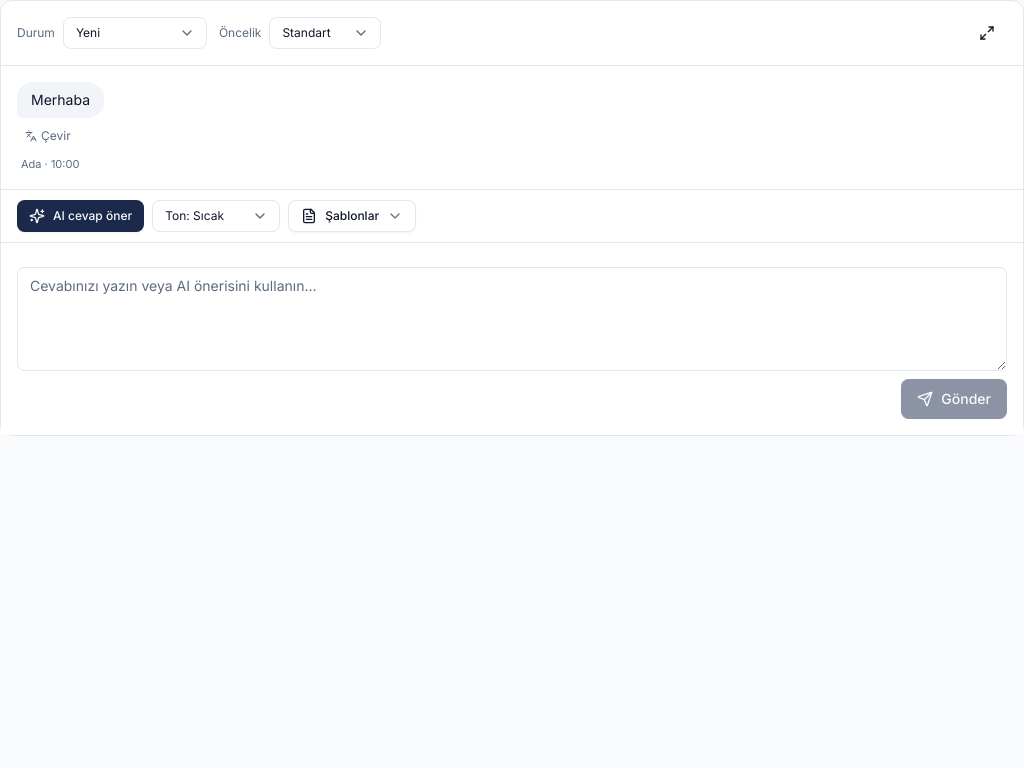
şablon seçici — sayfalı liste + seçilince tam metin › 🚨 arama SUNUCUYA gider (ilk sayfada olmayan şablon bulunur); sonuç yoksa yalnız 'Şablon bulunamadı.'
Click the button "Şablonlar" at [352, 216], box [288, 200, 416, 232]
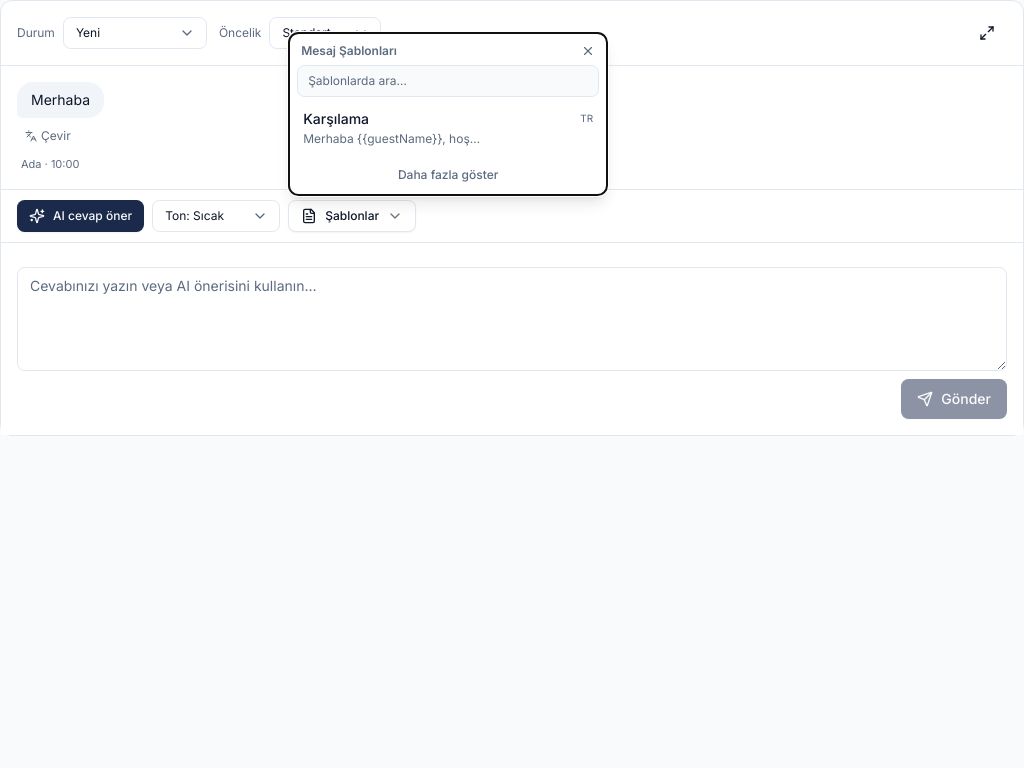
Check: the dialog shows "Karşılama", box [293, 100, 603, 154]
Type "otopark" into the search field labelled "Şablonlarda ara" at [448, 80], box [297, 64, 599, 96]
Wait 300 ms
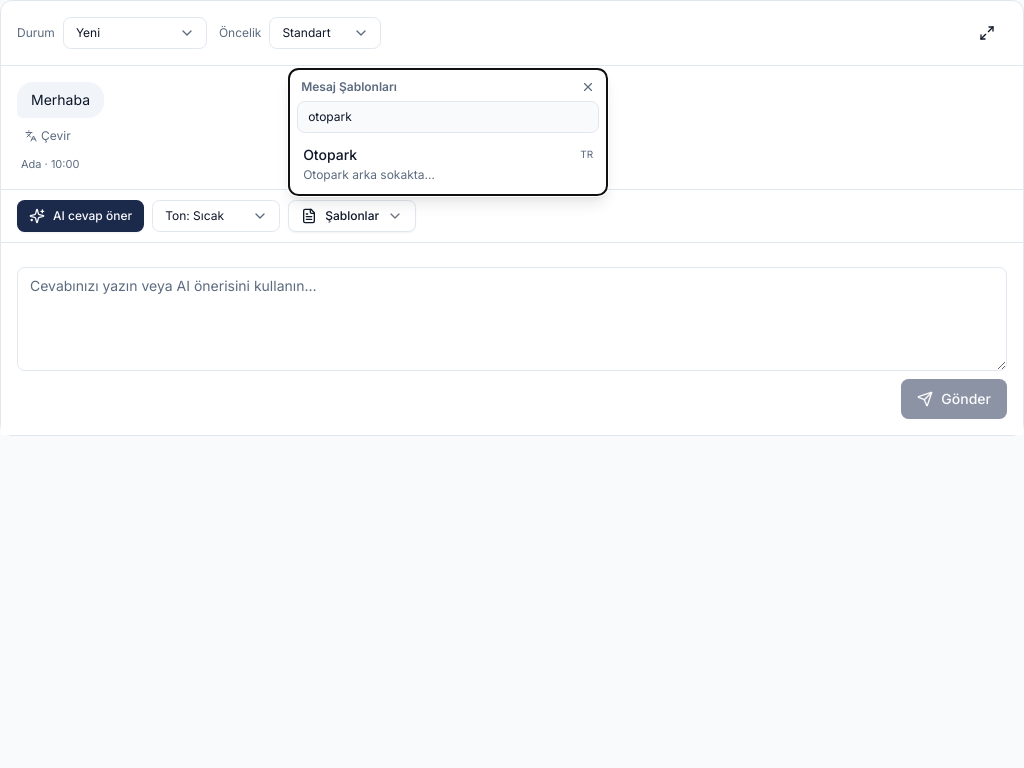
Check: the dialog shows "Otopark arka sokakta…", box [293, 136, 603, 190]
Check: the button "Karşılama" no longer shows "Karşılama"
Replace the text in the search field named "Şablonlarda ara" with "yok" at [448, 116], box [297, 100, 599, 132]
Wait 300 ms
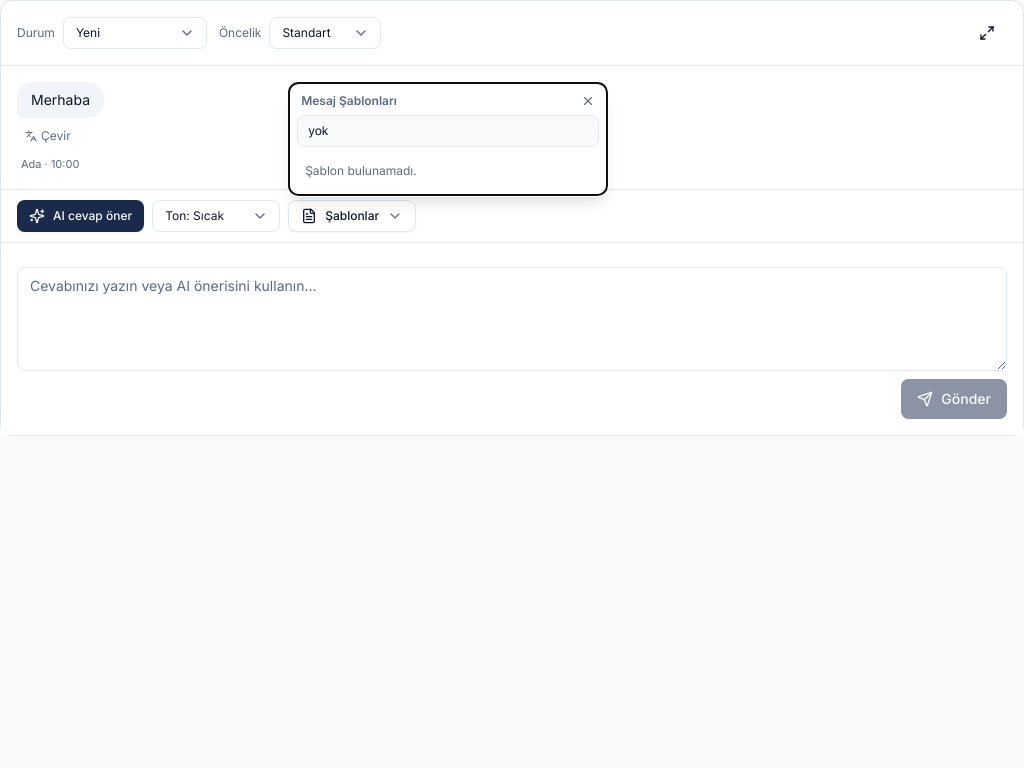
Check: the dialog shows "Şablon bulunamadı.", box [305, 162, 417, 178]
